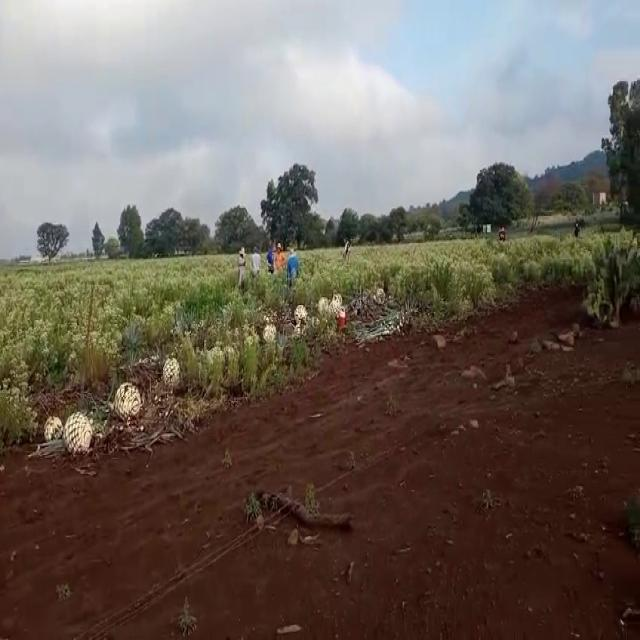agave: (59, 410, 92, 454), (110, 378, 139, 419), (160, 351, 182, 389), (40, 414, 59, 442), (263, 322, 279, 345), (293, 304, 307, 327), (374, 286, 388, 309), (317, 296, 328, 312), (330, 295, 338, 316)
